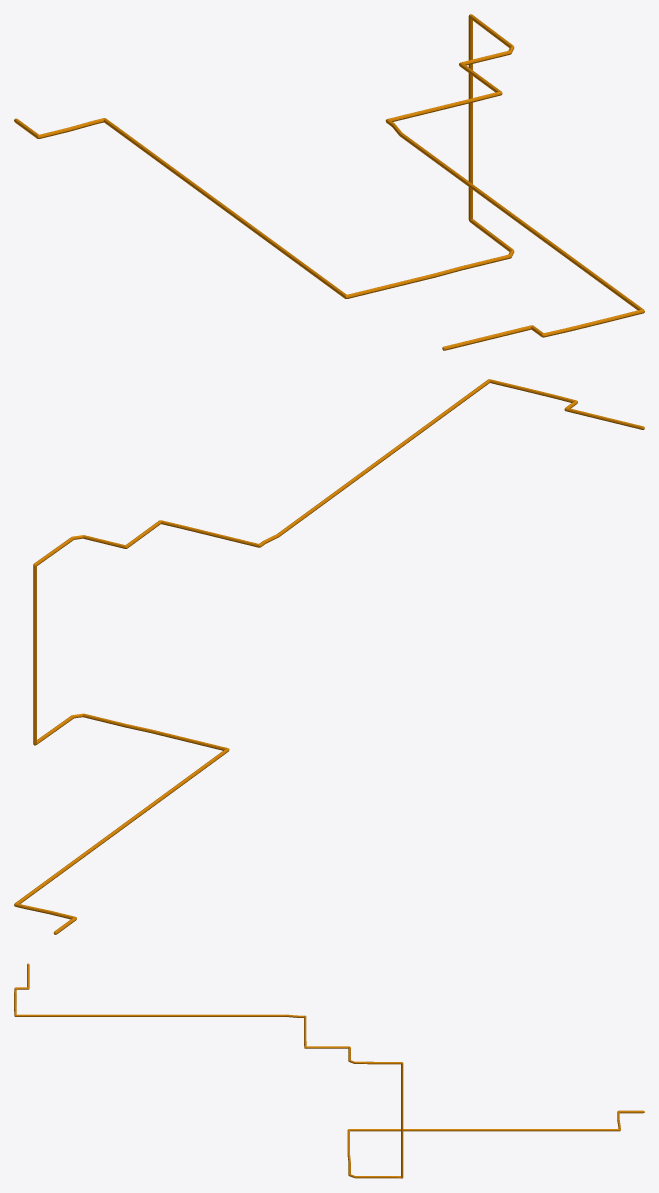
3 renders of one model, top to bottom at view 1: azimuth 30°, elevation 25°; view 2: azimuth 150°, elevation 25°; view 3: azimuth 270°, elevation 25°, orthographic. The views are drawn at different scales.
Size of the model in its own units: 1870 by 1020 by 5010.
